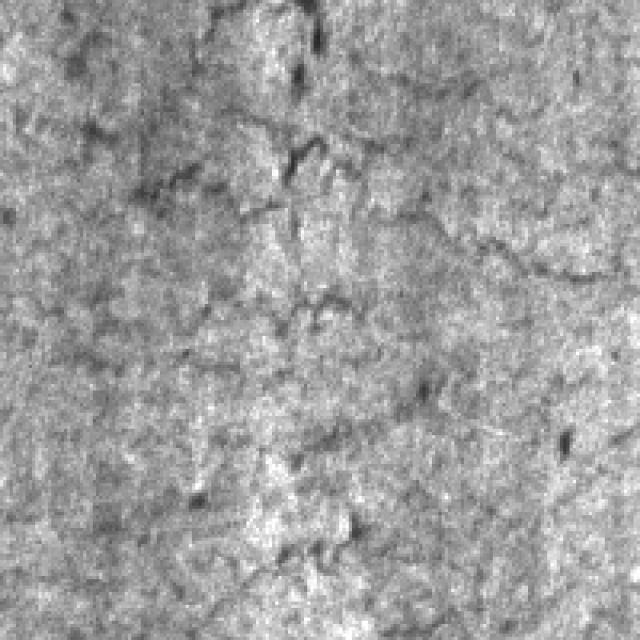crazing: (112, 0, 624, 333), (22, 153, 426, 410), (90, 384, 547, 598)
